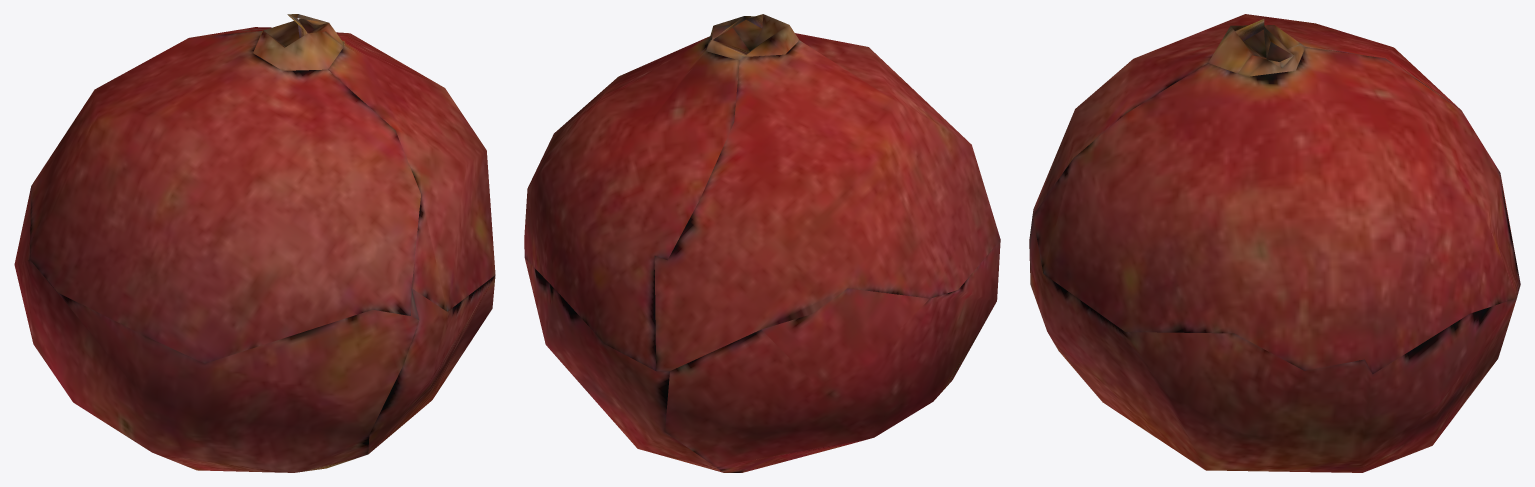
The model's file is food_pomegranate_01.glb.
The picture shows the model from 3 angles, left to right: view 1: azimuth 30°, elevation 25°; view 2: azimuth 150°, elevation 25°; view 3: azimuth 270°, elevation 25°; orthographic projection. The views are drawn at different scales.
Parts seen in each view (by area): view 1: food_pomegranate_01; view 2: food_pomegranate_01; view 3: food_pomegranate_01.
Part boxes in pixels (box(x1,y1,x2,y2)): food_pomegranate_01: box(14, 14, 495, 472); food_pomegranate_01: box(524, 14, 1000, 472); food_pomegranate_01: box(1029, 14, 1520, 472).
Bounding box in the file's own units: 0.1124 × 0.1145 × 0.1143.
1 material, 1 textured.
